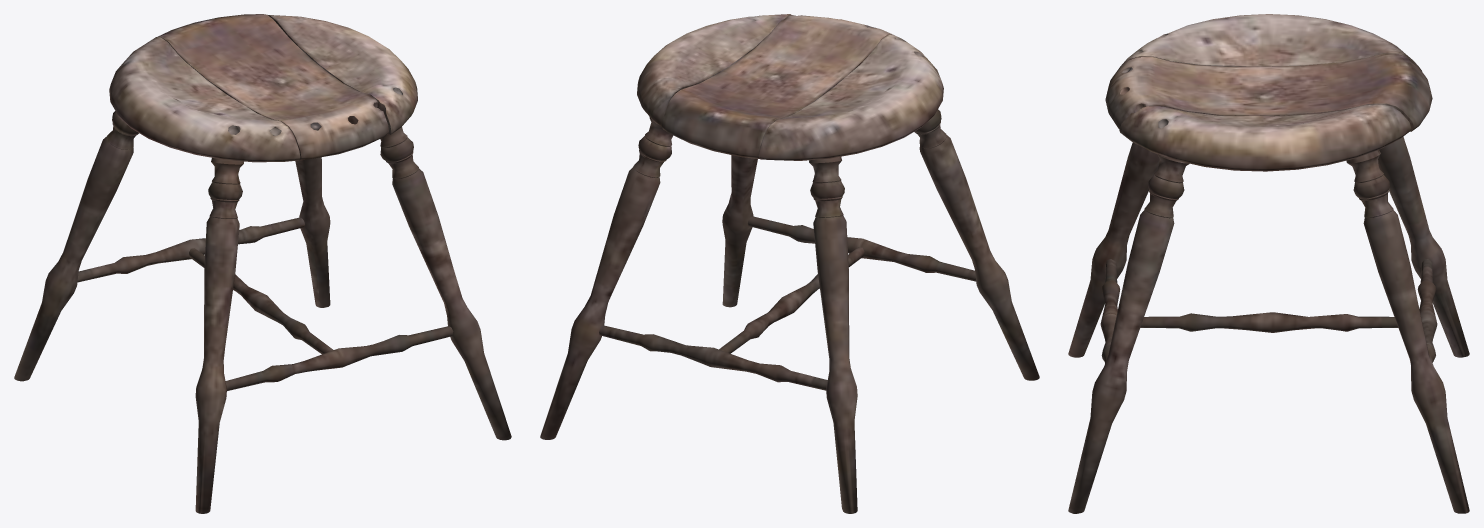
The model's file is th_hocker.glb.
3 views of the same model, side by side, from view 1: azimuth 30°, elevation 25°; view 2: azimuth 150°, elevation 25°; view 3: azimuth 270°, elevation 25° (orthographic). The views are drawn at different scales.
Visible parts, largest first — view 1: wooden_stool_01; view 2: wooden_stool_01; view 3: wooden_stool_01.
Part boxes in pixels (left/top/right/bottom): wooden_stool_01: left=14, top=14, right=511, bottom=513; wooden_stool_01: left=540, top=14, right=1039, bottom=513; wooden_stool_01: left=1068, top=14, right=1469, bottom=513.
Size of the model in its own units: 0.4246 by 0.4365 by 0.4417.
Materials: 1 (1 with a texture image).
